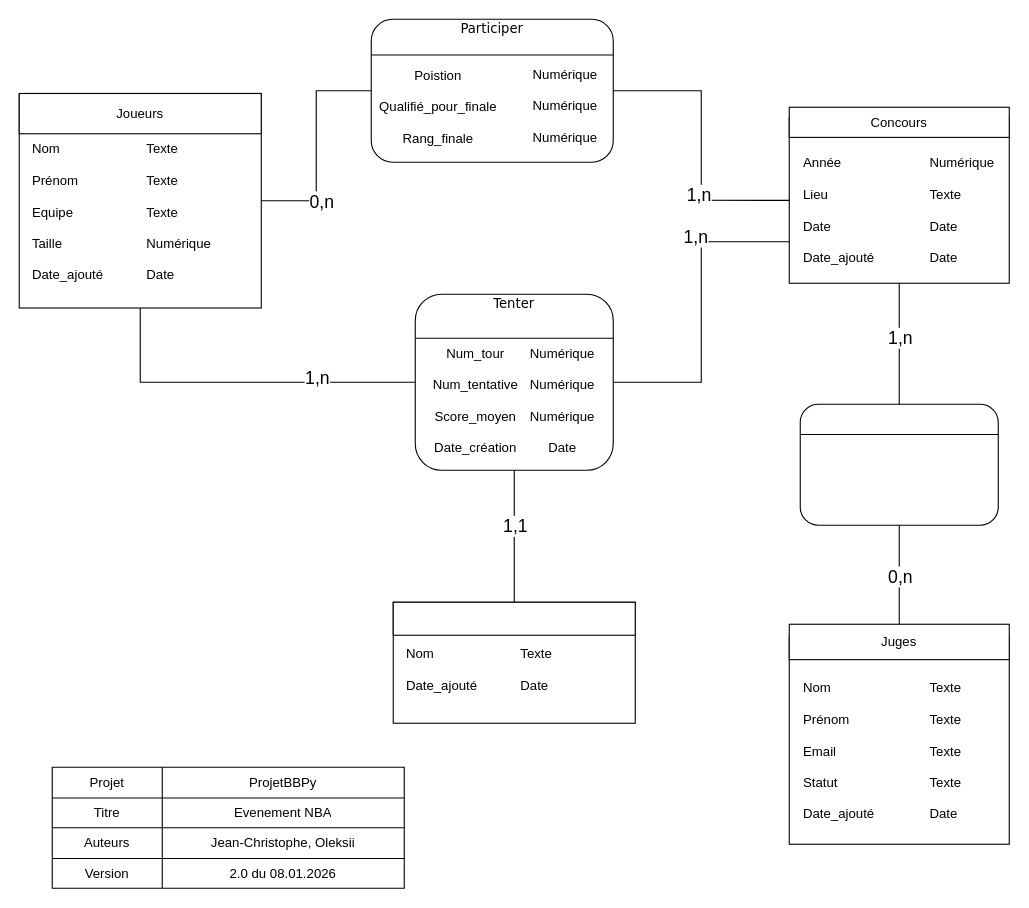
This 1029x908 diagram has some shape labels left out. The centre of each missing label's shape, as x and y in pixels:
"Dunks" goes at (513,618).
"Être_jugé" goes at (898,464).
